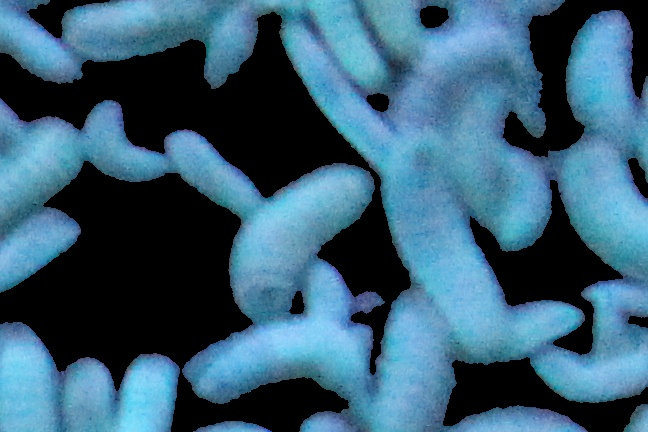larvae: (380, 145, 512, 358), (229, 160, 378, 323), (186, 320, 372, 409), (273, 22, 388, 154), (550, 136, 648, 278), (555, 4, 645, 135), (375, 287, 456, 432), (396, 27, 512, 125), (167, 122, 271, 226), (61, 4, 221, 63), (78, 99, 169, 194), (484, 132, 554, 252), (534, 331, 648, 404), (3, 100, 86, 198), (1, 201, 82, 301), (307, 1, 395, 93), (1, 311, 61, 432), (123, 339, 182, 432), (58, 347, 118, 432), (298, 253, 357, 322), (507, 297, 588, 346)
